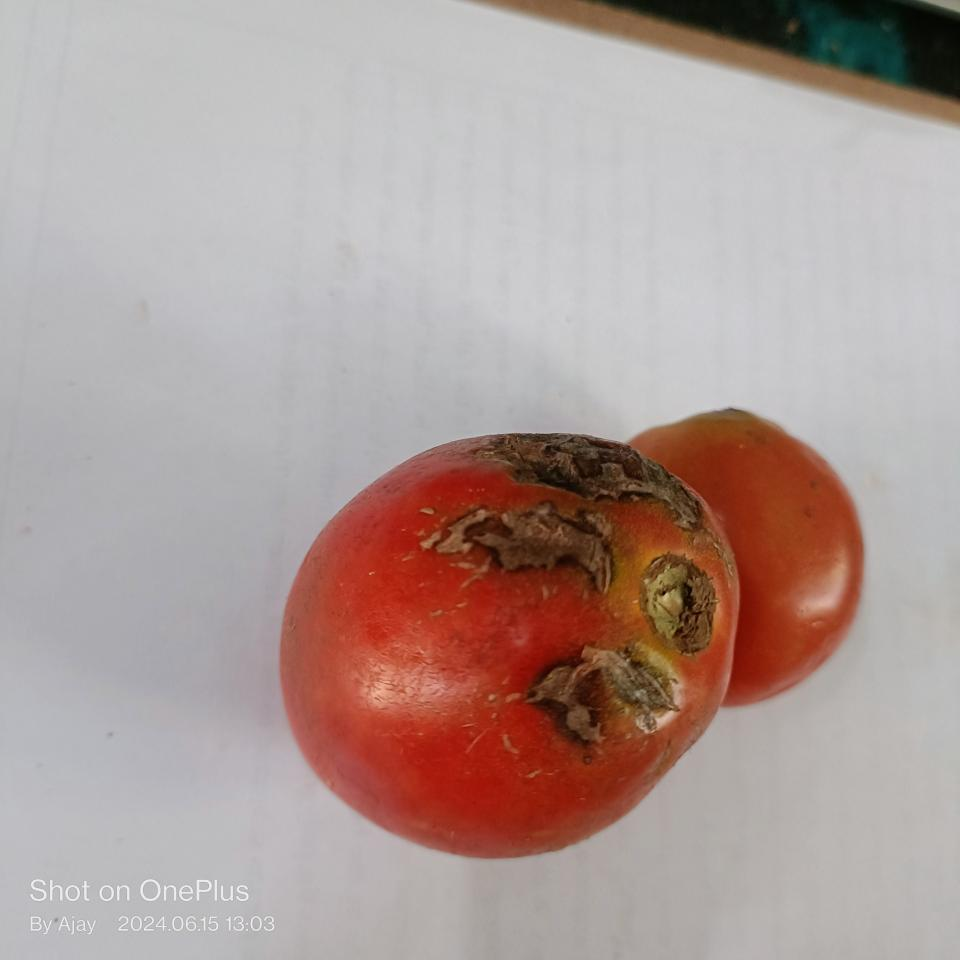Bacterial_Spot: (422, 501, 616, 593), (523, 646, 671, 747), (494, 433, 646, 492), (640, 554, 718, 631)
